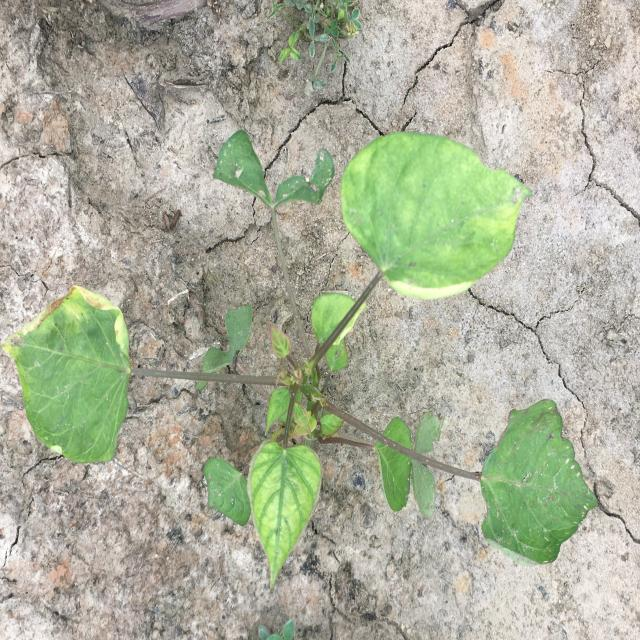MorningGlory: (1, 129, 600, 592)
